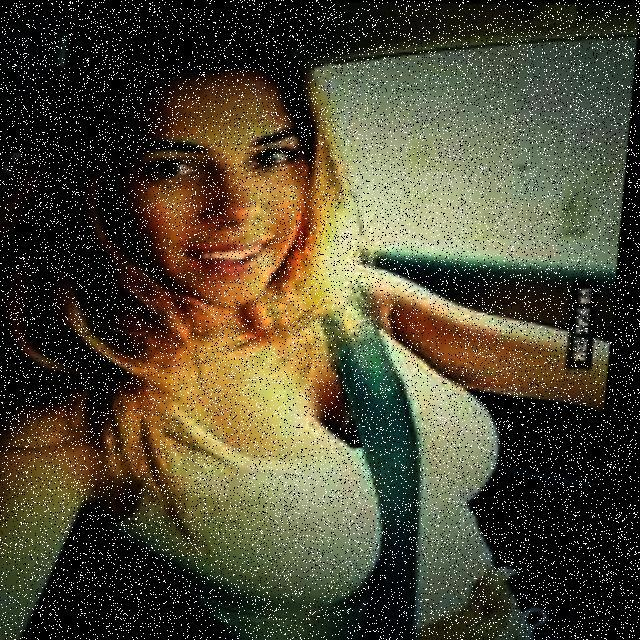seatbelt: (106, 254, 518, 640)
